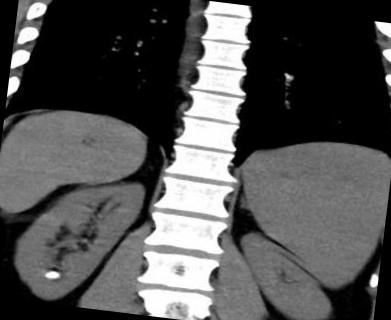Tas_Var: (42, 268, 60, 282)
